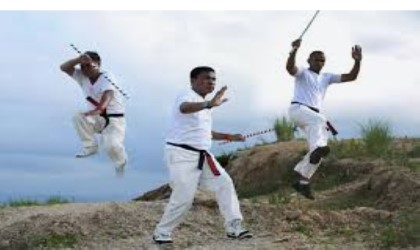baston_e: (76, 43, 123, 97), (222, 127, 267, 146), (293, 12, 321, 41)
baston_v: (121, 90, 135, 100), (66, 39, 75, 48), (288, 45, 295, 56), (315, 7, 320, 14), (216, 140, 220, 145)
